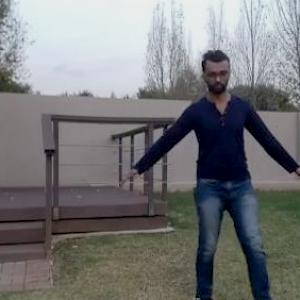land: (151, 66, 288, 299)
